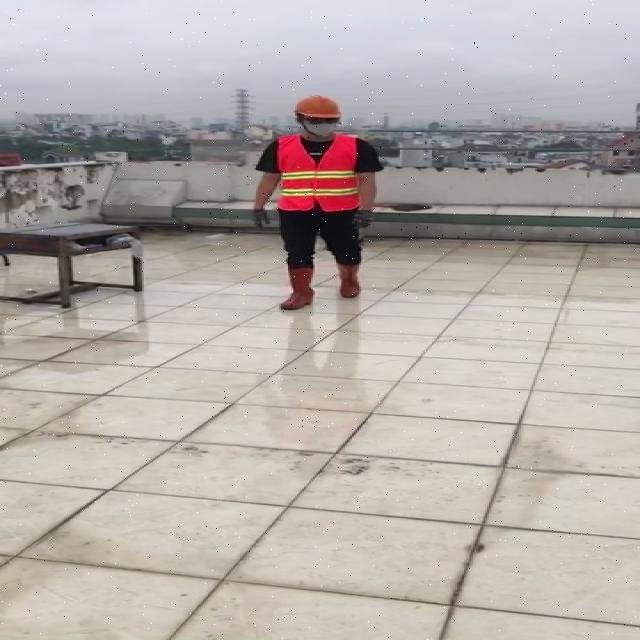Hard_hat: (288, 92, 347, 124)
Vest: (276, 133, 363, 217)
